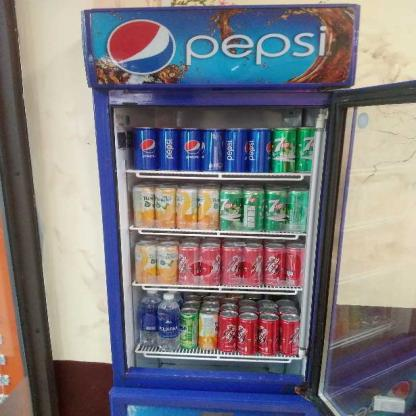7up: (271, 127, 294, 174), (265, 188, 286, 232), (295, 126, 314, 174), (218, 189, 239, 231), (241, 189, 262, 231)
aquafina: (156, 294, 180, 351)
mirinda-sodakem: (178, 310, 197, 349)
pepsi-blue: (130, 125, 159, 171), (247, 126, 270, 173), (178, 126, 201, 172), (156, 126, 179, 171), (224, 127, 246, 171), (202, 126, 223, 172)
string-red: (240, 244, 263, 287), (219, 245, 241, 287), (236, 313, 258, 355), (177, 242, 197, 288), (198, 245, 219, 286), (258, 315, 279, 356), (264, 245, 284, 286), (286, 245, 305, 286), (218, 312, 237, 353), (281, 316, 299, 356)
twister-cam-lon: (130, 185, 154, 229), (174, 185, 195, 230), (156, 244, 177, 286), (155, 186, 175, 230), (197, 187, 216, 232), (135, 243, 155, 284), (198, 310, 216, 350)
